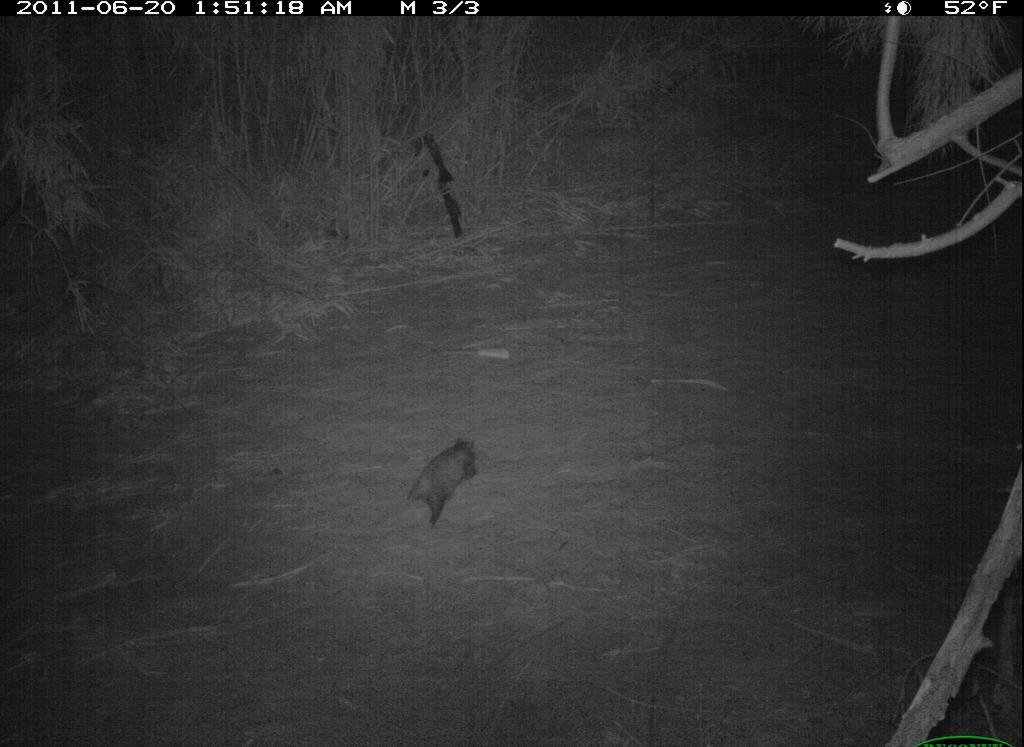opossum: (397, 427, 491, 538)
